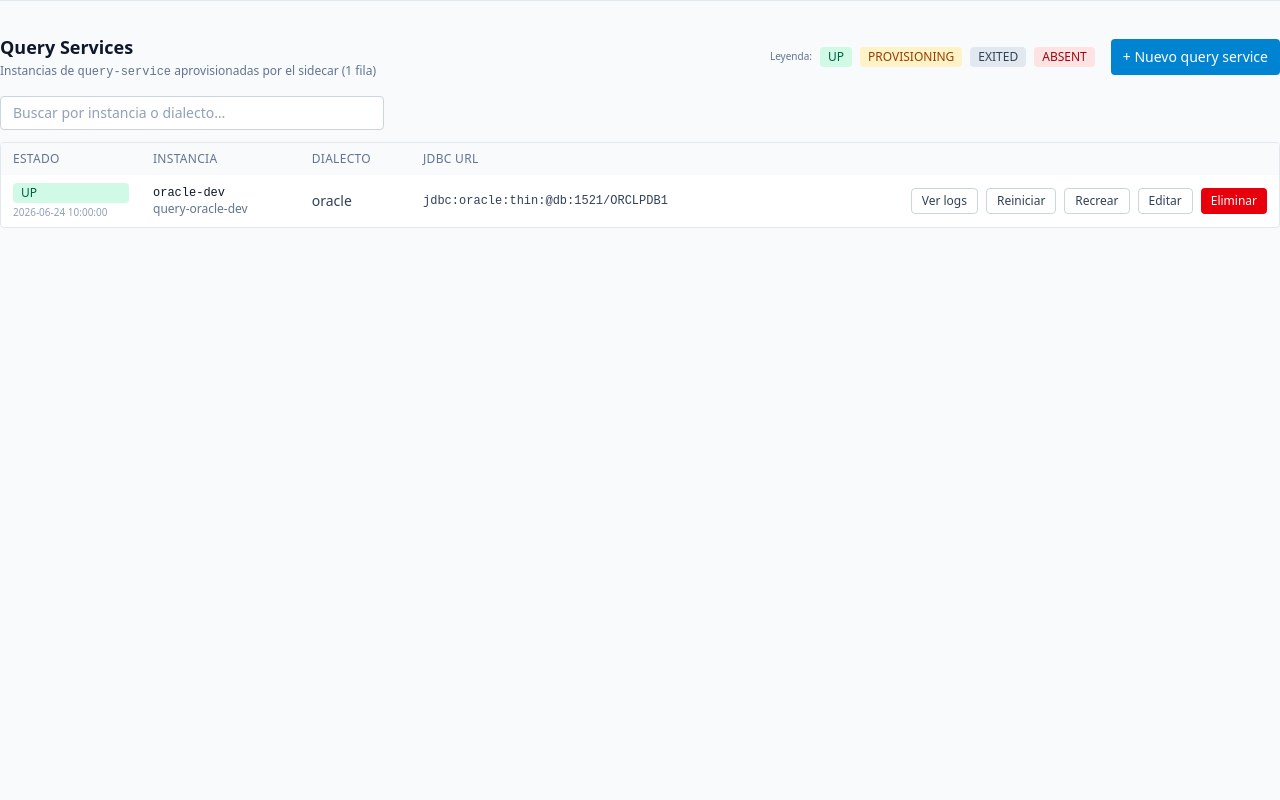
Test: QueryServicesSection › opens the Logs modal with logs body when 'Ver logs' is clicked
Click the button with test id "view-logs-7" at (944, 201), box [911, 188, 978, 214]
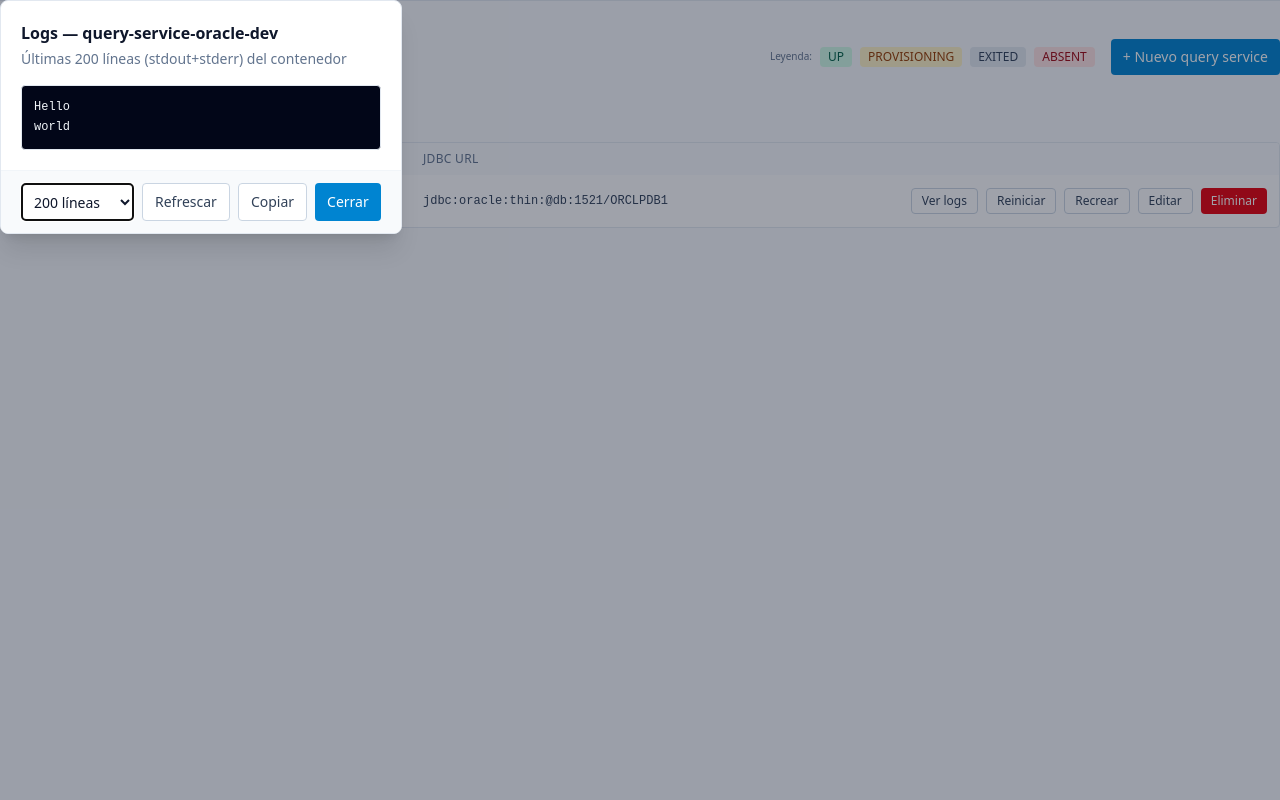
Expected: the text with test id "logs-body" shows "Hello", [34, 100, 70, 134]
Expected: the text with test id "logs-body" shows "world", [34, 100, 70, 134]
